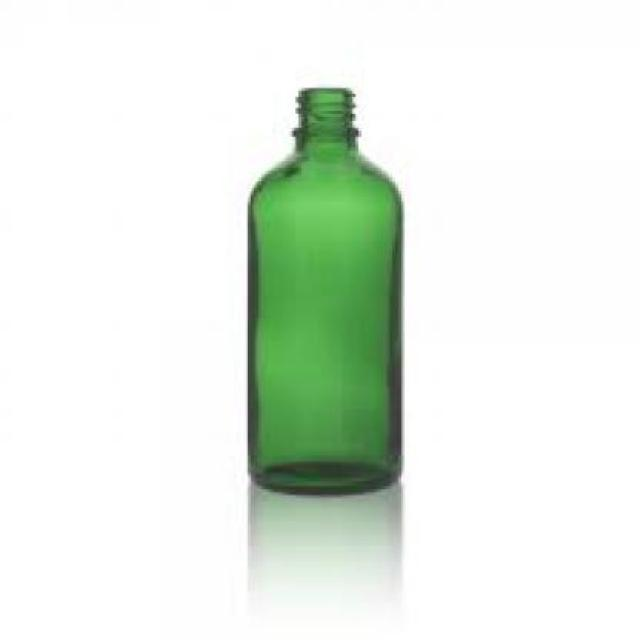kaca: (244, 87, 402, 496)
